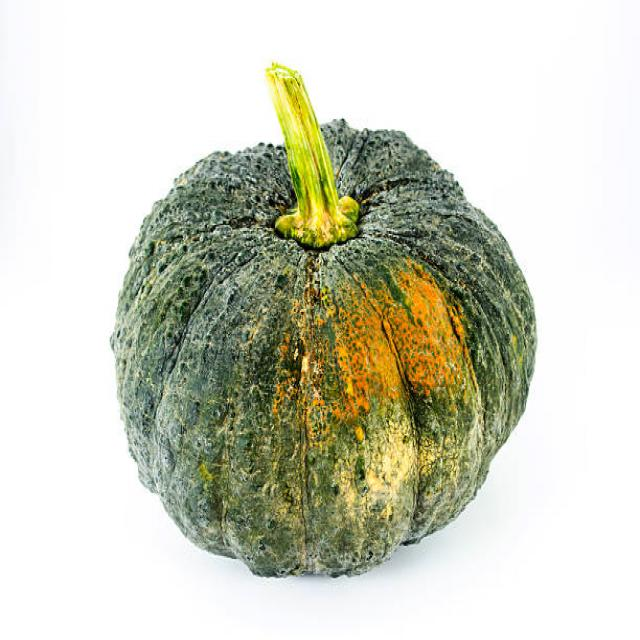pumpkin: (110, 114, 542, 588)
